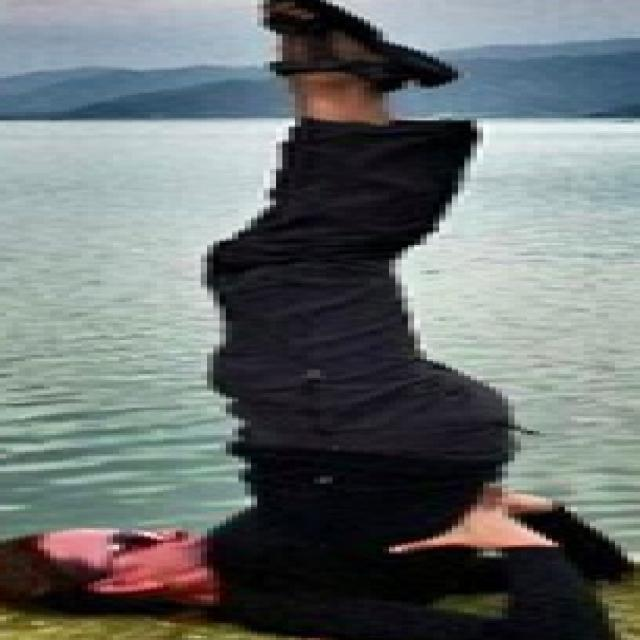yoga-pose shoulderstand: (9, 0, 623, 640)
